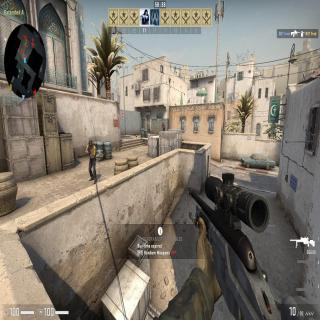T-Body: (86, 138, 97, 182), (161, 121, 165, 131)
T-Head: (89, 139, 92, 146), (162, 121, 164, 124)
